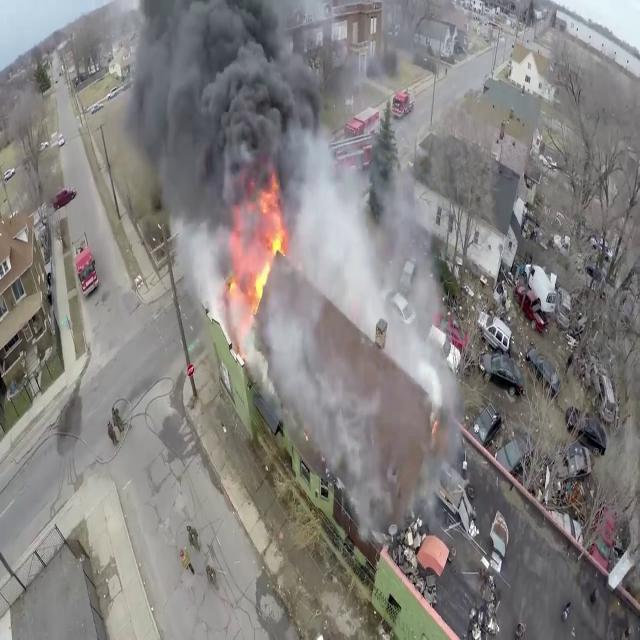Fire: (229, 167, 291, 327)
Smoke: (256, 226, 469, 519), (124, 1, 358, 250)
